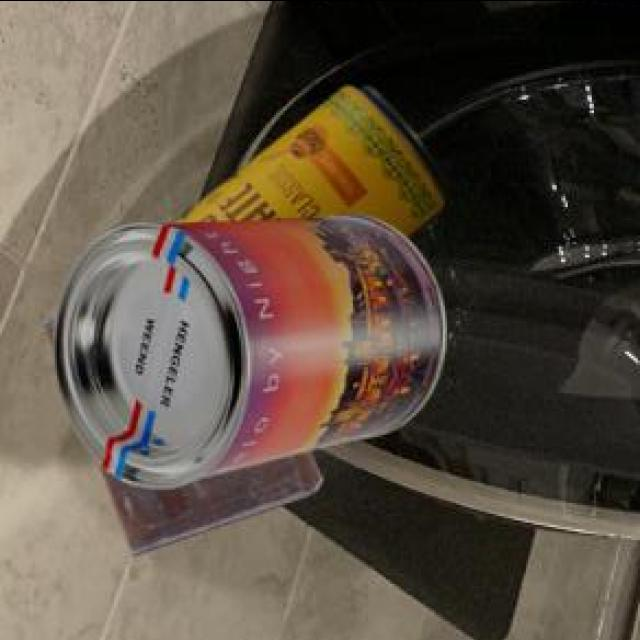logam: (58, 212, 448, 483), (47, 316, 325, 551), (176, 82, 450, 233)
